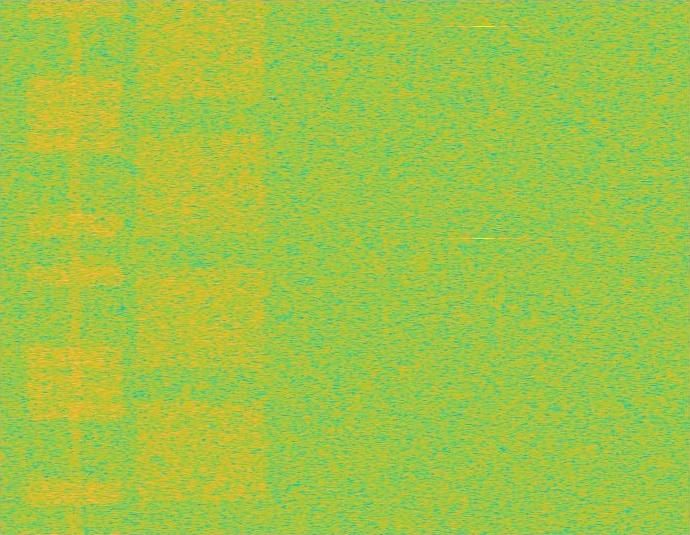5G: (132, 0, 270, 534)
DSSS: (68, 0, 82, 534)
LTE: (23, 0, 127, 534)
Radar: (477, 0, 490, 534)
